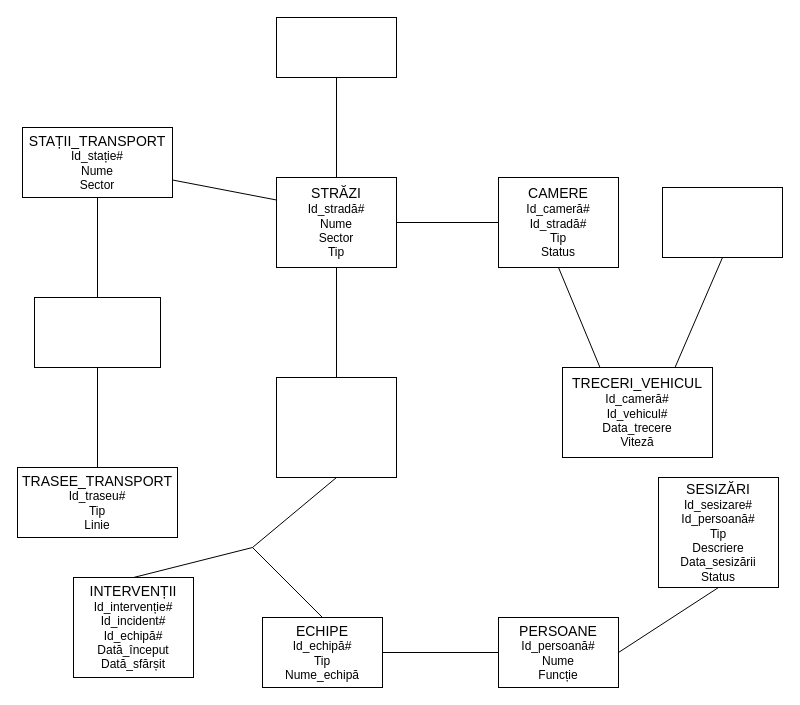
Some shapes in this 800 by 705 pixel diagram are drawn without their labels. Here are the shapes that lost their labels. From the top down, the box of each, then its label:
(276, 16, 396, 78): ZONĂ Id_zonă# Nume_zonă
(662, 186, 782, 258): VEHICULE Id_vehicul# Tip Număr_înmatriculare
(34, 296, 160, 368): TRASEE_STAȚIE Id_traseu# Id_stație# Ordine
(276, 376, 396, 478): INCIDENTE Id_incident# Id_stradă# Tip Dată Gravitate
